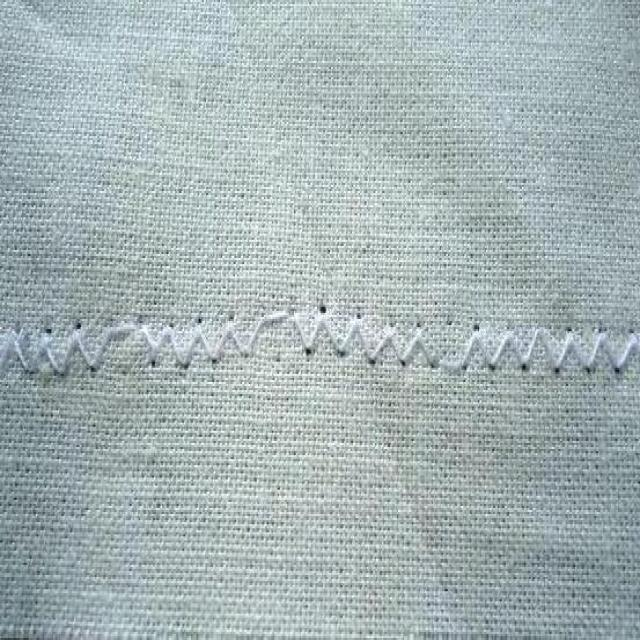gray stitch: (0, 306, 637, 387)
